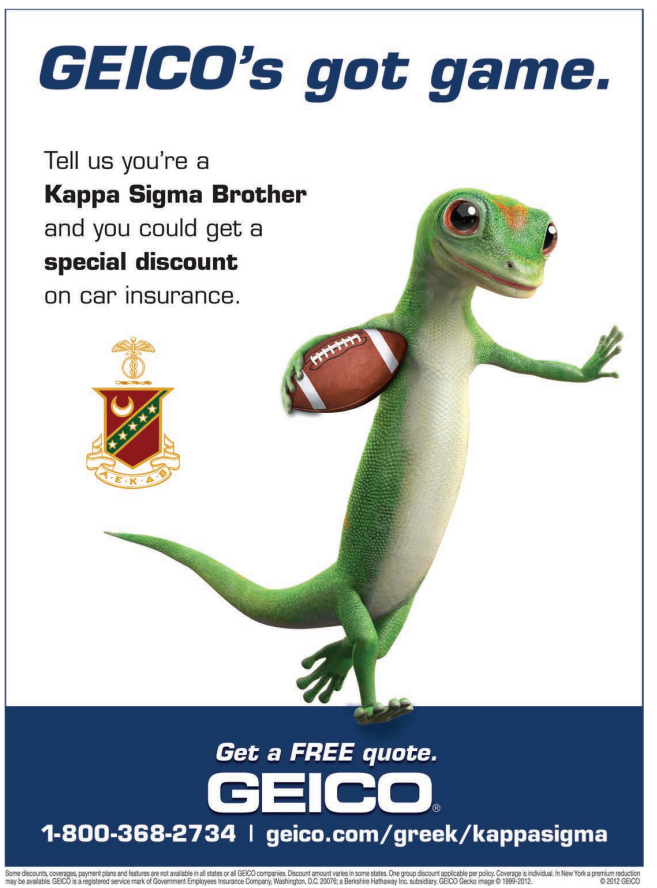geico: (202, 769, 447, 822), (30, 40, 240, 97)
